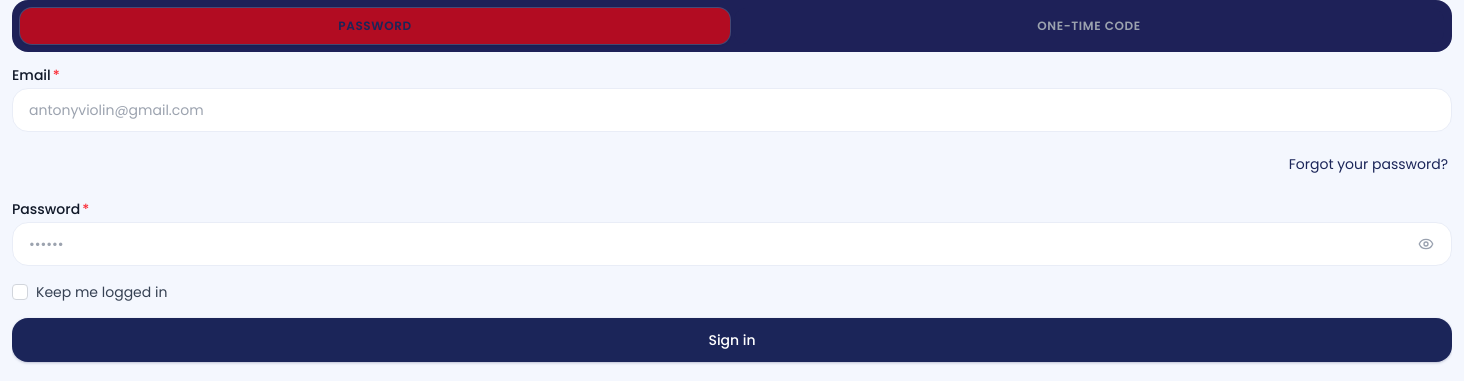
LoginForm OTP tab › sends a code via requestOtp and shows the code step
Click the tab "One-time code" at (1089, 26), box [734,8,1444,44]
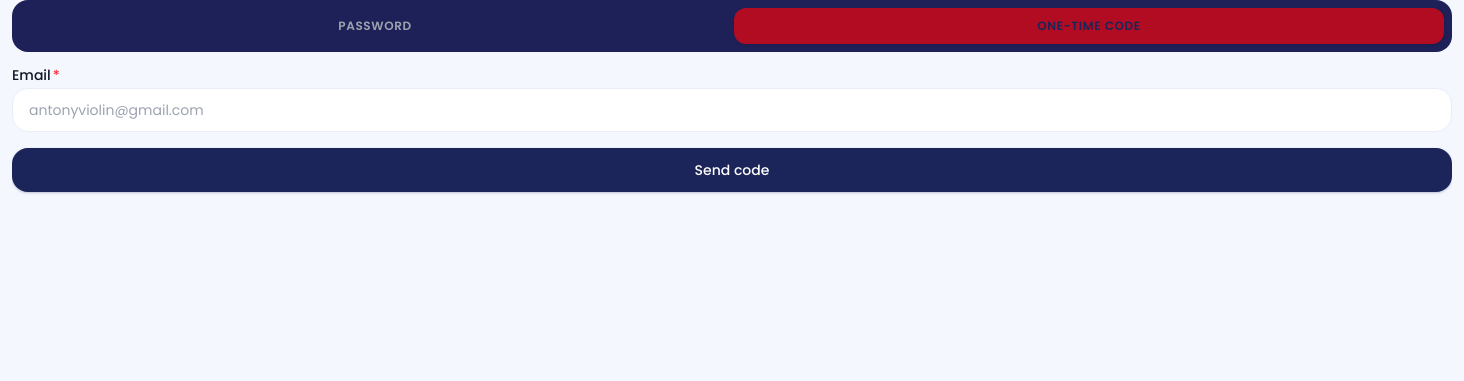
Type "admin@bgycc.com" into the field named "email" at (732, 110), box [12,88,1452,132]
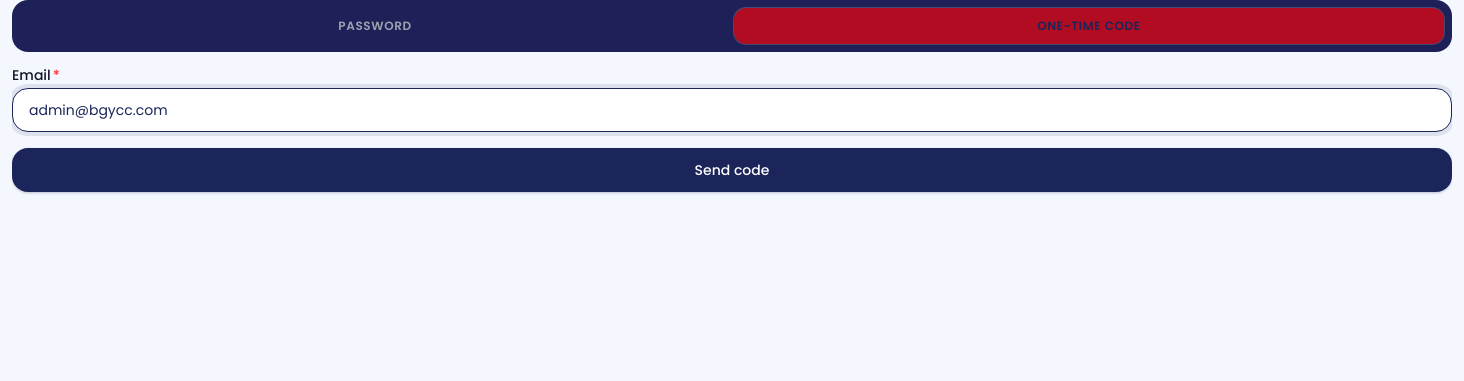
Click the button "Send code" at (732, 170), box [12,148,1452,192]
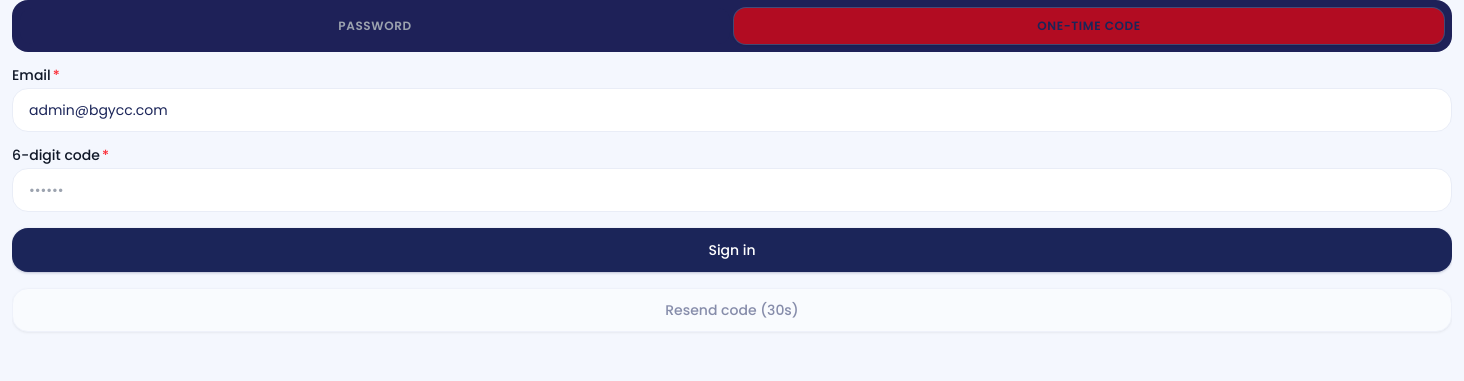
Check: the field named "6-digit code" is shown, box [12,168,1452,212]
